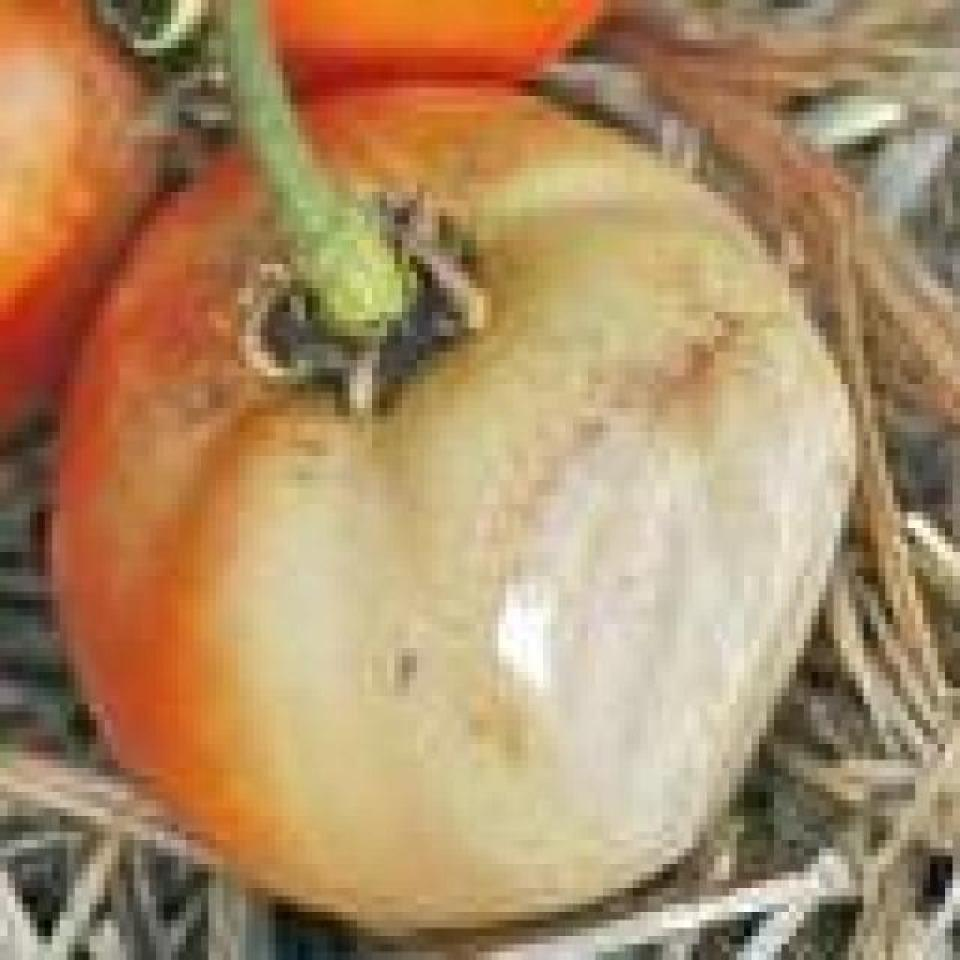Sunscald: (212, 147, 838, 900)
